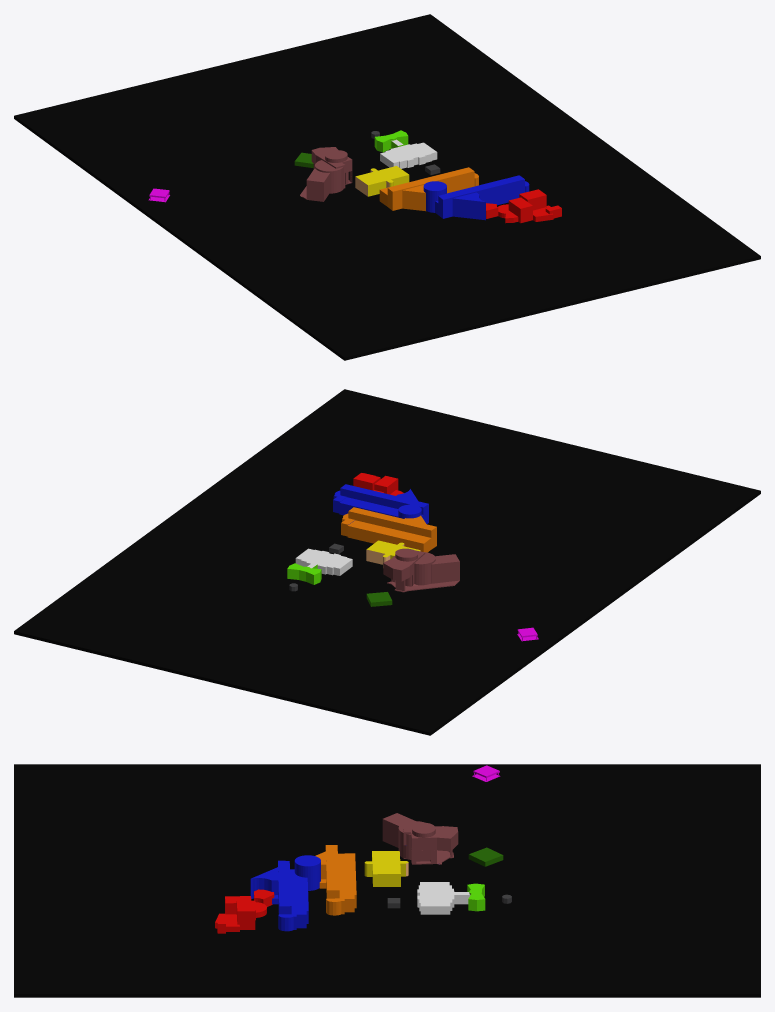
The picture shows the model from 3 angles, top to bottom: view 1: azimuth 30°, elevation 25°; view 2: azimuth 150°, elevation 25°; view 3: azimuth 270°, elevation 25°; orthographic projection. The views are drawn at different scales.
Visible parts, largest first — view 1: Plano, Cubo006, Cubo003_2, Cubo008_1, Cubo006_2, Cubo005_2, Cubo002_2; view 2: Plano, Cubo008_1, Cubo003_2, Cubo006, Cubo005_2, Cubo006_2; view 3: Plano, Cubo006, Cubo003_2, Cubo008_1, Cubo006_2, Cubo005_2, Cubo002_2, Cubo005_3, Cubo010_2.
Part boxes in pixels (box(x1,y1,x2,y2)): Plano: box(14, 14, 760, 360); Cubo006: box(423, 175, 529, 220); Cubo003_2: box(300, 147, 352, 201); Cubo008_1: box(379, 167, 478, 211); Cubo006_2: box(486, 189, 561, 223); Cubo005_2: box(380, 139, 437, 168); Cubo002_2: box(355, 166, 409, 196); Plano: box(14, 389, 760, 735); Cubo008_1: box(341, 507, 436, 552); Cubo003_2: box(383, 548, 459, 592); Cubo006: box(333, 484, 428, 523); Cubo005_2: box(295, 548, 352, 575); Cubo006_2: box(353, 473, 403, 495); Plano: box(14, 764, 760, 997); Cubo006: box(250, 855, 320, 931); Cubo003_2: box(382, 813, 458, 864); Cubo008_1: box(315, 845, 356, 915); Cubo006_2: box(215, 889, 274, 933); Cubo005_2: box(417, 882, 470, 914); Cubo002_2: box(364, 851, 408, 886); Cubo005_3: box(467, 883, 485, 911); Cubo010_2: box(468, 847, 503, 866).
Size of the model in its own units: 400 by 28.65 by 550.
